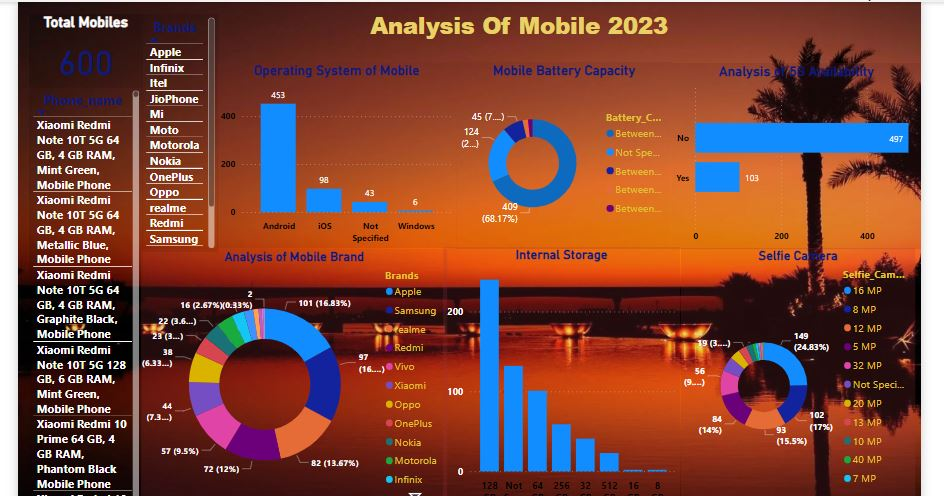

This screenshot's page, from the dashboard's own definition file:
{"tool":"powerbi","page":{"name":"Page 1","canvas":[1280,720],"ordinal":0},"visuals":[{"type":"card","title":"Total Mobiles","fields":{"Values":["Sum(project mobile.Total_Mobile)"]},"box":[15.1,16.8,161,104],"z":0},{"type":"tableEx","fields":{"Values":["project mobile.Phone_name"]},"box":[15.1,120.8,161,598.9],"z":1000},{"type":"tableEx","fields":{"Values":["project mobile.Brands"]},"box":[175.7,17,107.7,337.3],"z":2000},{"type":"clusteredColumnChart","title":" Operating System of Mobile","fields":{"Category":["project mobile.Operating_System_Type"],"Y":["Sum(project mobile.Total_Mobile)"]},"box":[282,85,338.7,263.6],"z":3000},{"type":"donutChart","title":"Mobile Battery Capacity  ","fields":{"Category":["project mobile.Battery_Capacity_Range"],"Y":["Sum(project mobile.Total_Mobile)"]},"box":[620.8,85,306.1,265],"z":4000},{"type":"barChart","title":"Analysis of 5G Availability","fields":{"Y":["Sum(project mobile.Total_Mobile)"],"Category":["project mobile.5G_Availability"]},"box":[926.9,86.5,352.9,263.6],"z":5000},{"type":"columnChart","title":"Internal Storage","fields":{"Category":["project mobile.Internal_Storage"],"Y":["Sum(project mobile.Total_Mobile)"]},"box":[602.4,347.2,335.9,371.3],"z":6000},{"type":"donutChart","title":"Analysis of Mobile Brand","fields":{"Y":["Sum(project mobile.Total_Mobile)"],"Category":["project mobile.Brands"]},"box":[174.3,350.1,433.7,362.8],"z":7000},{"type":"donutChart","title":"Selfie Camera","fields":{"Category":["project mobile.Selfie_Camera"],"Y":["Sum(project mobile.Total_Mobile)"]},"box":[939.7,348.7,331.7,369.9],"z":8000},{"type":"textbox","box":[474.8,5.7,470.6,69.4],"z":8001}]}

Visuals, with their boxes on the page's 1280x720 design canvas (x1, y1, x2, y2). These are canvas units, not pixel positions in the 944x496 screenshot, which may show the page scaled, cropped or inside an application window:
"Total Mobiles" card: l=15, t=17, r=176, b=121
tableEx - project mobile.Phone_name: l=15, t=121, r=176, b=720
tableEx - project mobile.Brands: l=176, t=17, r=283, b=354
" Operating System of Mobile" clusteredColumnChart: l=282, t=85, r=621, b=349
"Mobile Battery Capacity  " donutChart: l=621, t=85, r=927, b=350
"Analysis of 5G Availability" barChart: l=927, t=86, r=1280, b=350
"Internal Storage" columnChart: l=602, t=347, r=938, b=718
"Analysis of Mobile Brand" donutChart: l=174, t=350, r=608, b=713
"Selfie Camera" donutChart: l=940, t=349, r=1271, b=719
textbox: l=475, t=6, r=945, b=75
